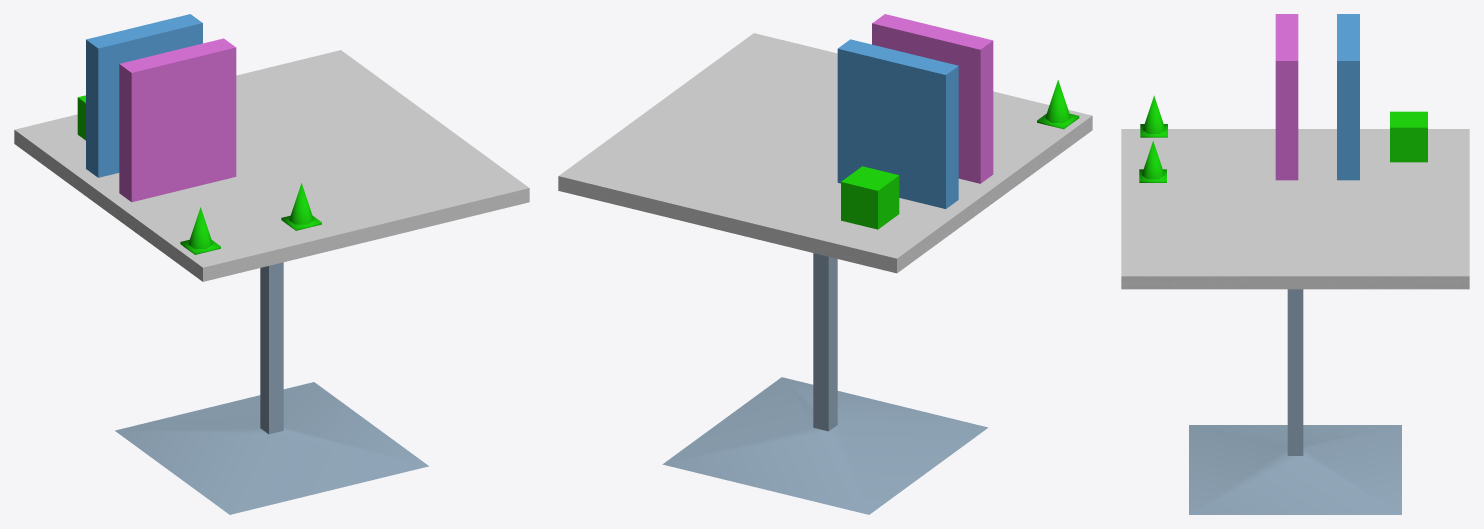
The model's file is miniscene.dae.
The picture shows the model from 3 angles, left to right: view 1: azimuth 30°, elevation 25°; view 2: azimuth 150°, elevation 25°; view 3: azimuth 270°, elevation 25°; orthographic projection. The views are drawn at different scales.
Parts seen in each view (by area): view 1: Top_Square.004, SketchUp, Cube.002, Top_Square.003, Cube.001, Cone_001.001, Cone_001; view 2: Top_Square.004, SketchUp, Cube.001, Top_Square.003, Cube.002, Cube, Cone_001.001; view 3: Top_Square.004, SketchUp, Top_Square.003, Cube.002, Cube.001, Cube, Cone_001.001, Cone_001.
Part boxes in pixels (left/top/right/bottom): Top_Square.004: left=15, top=50, right=528, bottom=267; SketchUp: left=115, top=262, right=428, bottom=514; Cube.002: left=119, top=38, right=236, bottom=202; Top_Square.003: left=14, top=130, right=529, bottom=281; Cube.001: left=86, top=14, right=202, bottom=177; Cone_001.001: left=180, top=207, right=220, bottom=254; Cone_001: left=281, top=183, right=321, bottom=230; Top_Square.004: left=559, top=33, right=1091, bottom=258; SketchUp: left=662, top=253, right=988, bottom=514; Cube.001: left=837, top=39, right=958, bottom=208; Top_Square.003: left=558, top=116, right=1092, bottom=273; Cube.002: left=872, top=14, right=993, bottom=183; Cube: left=841, top=166, right=899, bottom=229; Cone_001.001: left=1037, top=80, right=1079, bottom=129; Top_Square.004: left=1121, top=129, right=1469, bottom=276; SketchUp: left=1189, top=289, right=1401, bottom=514; Top_Square.003: left=1121, top=276, right=1469, bottom=289; Cube.002: left=1275, top=14, right=1298, bottom=180; Cube.001: left=1337, top=14, right=1359, bottom=180; Cube: left=1390, top=111, right=1427, bottom=162; Cone_001.001: left=1140, top=95, right=1167, bottom=137; Cone_001: left=1139, top=141, right=1166, bottom=182.
Size of the model in its own units: 0.9144 by 0.9144 by 1.12.
